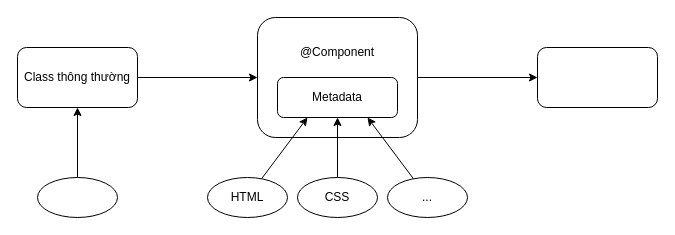
Some shapes in this 675 by 235 pixel diagram are drawn without their labels. The shapes that lost their labels are listed below. From the top down, each one's centre as x and y in pixels, then its label:
the point at 597,77: Component
the point at 77,197: JS
